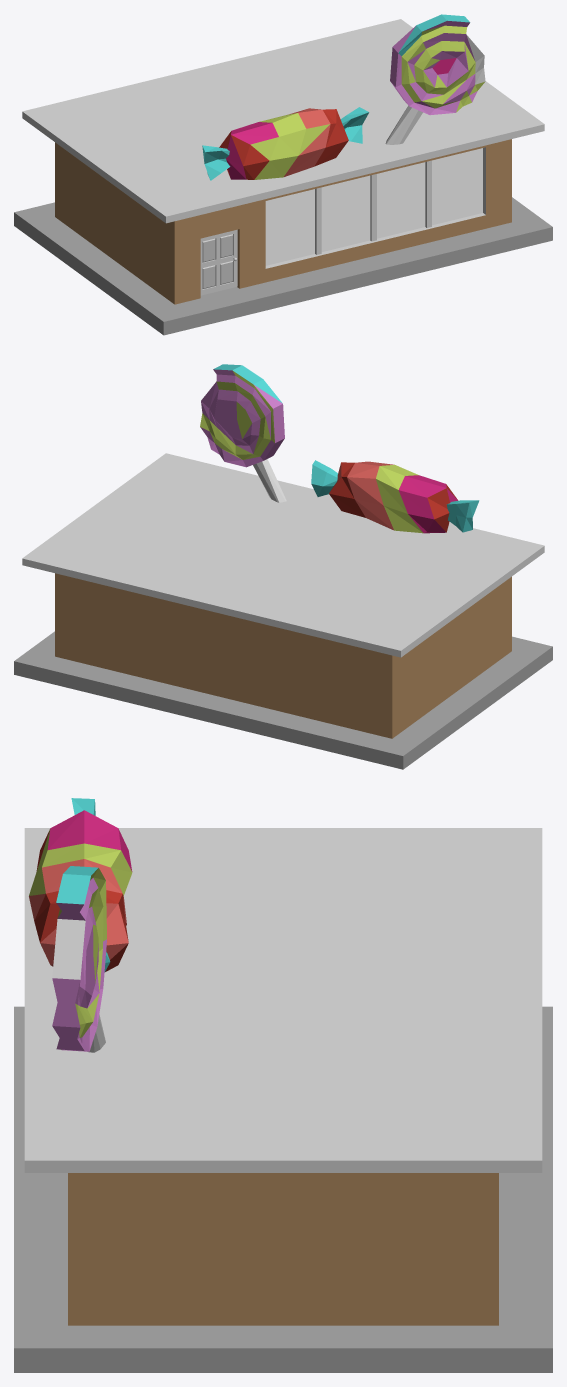
Rendered from Shoppe_Candy.fbx.
3 views of the same model, one above another, from view 1: azimuth 30°, elevation 25°; view 2: azimuth 150°, elevation 25°; view 3: azimuth 270°, elevation 25° (orthographic). The views are drawn at different scales.
Parts seen in each view (by area): view 1: Mesh5 Plane1 skp30C1_1 Model.000; view 2: Mesh5 Plane1 skp30C1_1 Model.000; view 3: Mesh5 Plane1 skp30C1_1 Model.000.
Part boxes in pixels (<box>): Mesh5 Plane1 skp30C1_1 Model.000: <box>14,14,552,335</box>; Mesh5 Plane1 skp30C1_1 Model.000: <box>14,364,552,769</box>; Mesh5 Plane1 skp30C1_1 Model.000: <box>14,798,552,1372</box>.
Bounding box in the file's own units: 1500 × 856 × 1000.
